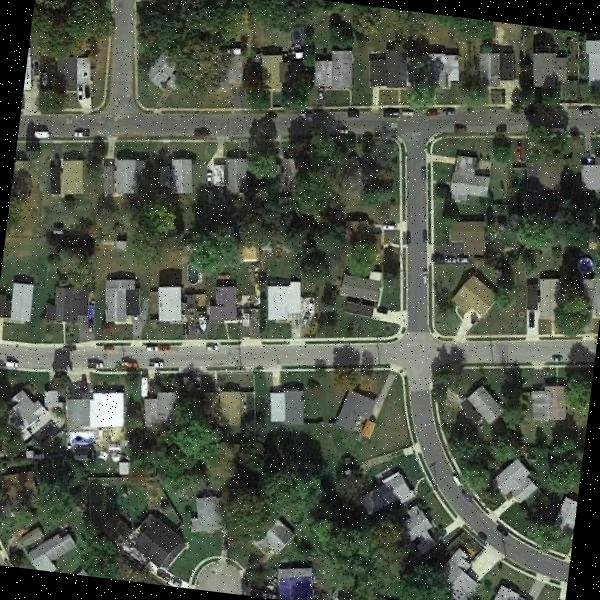Buildings: (18, 523, 76, 574), (100, 276, 146, 329), (3, 389, 52, 432), (74, 388, 128, 427), (338, 394, 384, 439), (0, 281, 42, 329), (447, 153, 490, 198), (50, 283, 88, 332), (338, 275, 381, 318), (133, 518, 179, 558), (264, 281, 304, 327), (570, 32, 600, 93), (275, 559, 319, 600), (453, 274, 496, 314), (529, 384, 567, 427), (142, 57, 178, 101), (443, 555, 478, 600), (381, 474, 422, 510), (55, 156, 90, 198), (460, 384, 503, 418), (367, 48, 404, 86), (143, 388, 179, 426), (502, 464, 542, 498), (312, 56, 355, 86), (489, 577, 544, 600), (453, 217, 487, 253), (473, 49, 504, 85), (154, 288, 186, 322), (164, 157, 195, 192), (212, 159, 246, 188), (110, 158, 138, 192), (219, 392, 244, 429), (433, 53, 460, 86), (256, 55, 283, 88), (561, 490, 579, 538), (272, 392, 303, 419), (210, 289, 236, 320), (264, 522, 292, 550), (585, 149, 600, 201), (193, 502, 220, 529), (406, 514, 428, 540)
